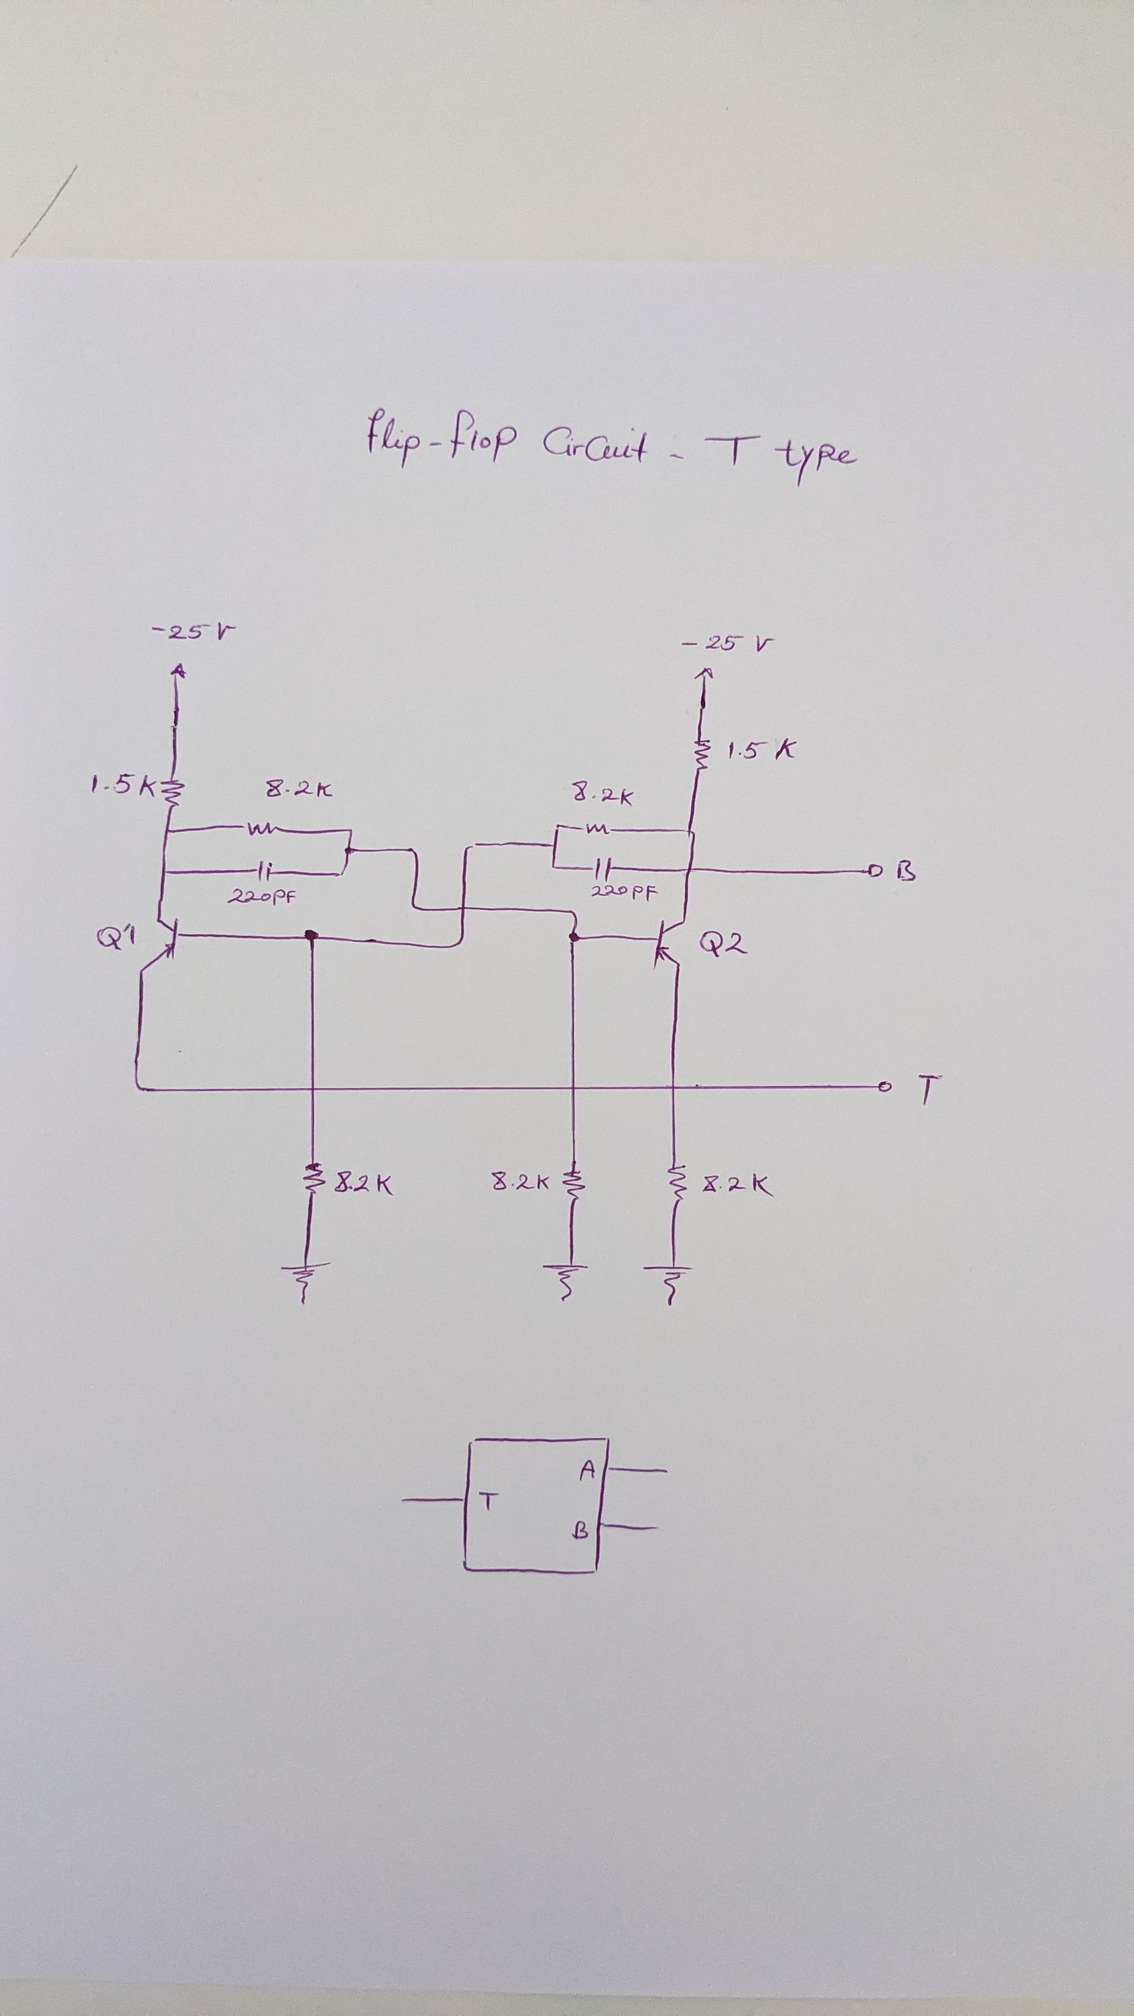capacitor.unpolarized: (588, 856, 615, 883), (252, 858, 276, 883)
crossover: (307, 1081, 320, 1095), (683, 863, 696, 875), (568, 1081, 580, 1094), (456, 901, 469, 912), (667, 1081, 681, 1092)
gnd: (276, 1259, 335, 1307), (640, 1261, 695, 1308), (540, 1260, 591, 1306)
integrated_circuit: (460, 1434, 613, 1577)
junction: (461, 840, 479, 858), (303, 928, 321, 943), (451, 936, 467, 950), (408, 845, 424, 858), (568, 930, 582, 944), (683, 827, 699, 838), (342, 845, 359, 856), (408, 899, 421, 912), (568, 908, 583, 919), (334, 867, 349, 878), (133, 1080, 145, 1092), (547, 840, 559, 852), (159, 867, 170, 879), (346, 825, 359, 835), (552, 822, 564, 832), (548, 863, 559, 872), (163, 827, 173, 836)
resistor: (559, 1164, 588, 1207), (665, 1162, 690, 1205), (158, 775, 188, 810), (300, 1159, 327, 1198), (691, 735, 713, 773), (240, 820, 282, 836), (577, 821, 618, 836)
terminal: (865, 863, 885, 879), (876, 1079, 894, 1094), (659, 1466, 674, 1477), (397, 1494, 408, 1505), (649, 1523, 662, 1533)
text: (364, 404, 863, 492), (678, 629, 778, 655), (568, 775, 636, 811), (148, 619, 238, 645), (87, 770, 158, 802), (726, 734, 802, 763), (262, 774, 338, 802), (701, 1171, 777, 1199), (696, 926, 753, 961), (224, 883, 299, 908), (332, 1169, 396, 1198), (93, 919, 138, 955), (588, 882, 660, 904), (489, 1169, 552, 1194), (914, 1068, 943, 1108), (892, 856, 919, 885), (476, 1488, 501, 1513), (577, 1457, 597, 1483), (569, 1519, 590, 1541)
transistor: (136, 917, 181, 975), (651, 917, 688, 972)
vss: (691, 665, 719, 683), (168, 660, 188, 681)
